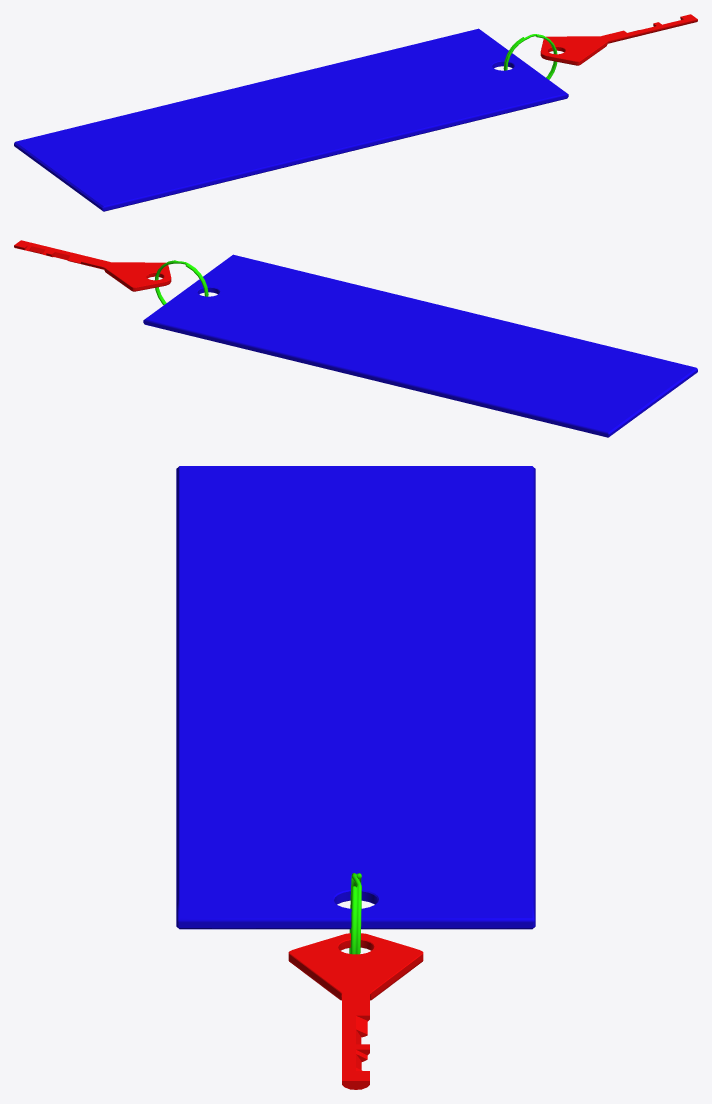
The model's file is Key.fbx.
The picture shows the model from 3 angles, top to bottom: view 1: azimuth 30°, elevation 25°; view 2: azimuth 150°, elevation 25°; view 3: azimuth 270°, elevation 25°; orthographic projection. The views are drawn at different scales.
Parts seen in each view (by area): view 1: polySurface3 (×3); view 2: polySurface3 (×3); view 3: polySurface3 (×2).
Boxes of the visible parts, x1,y1,x2,y2 form: polySurface3 (×3): (14,14,697,211); polySurface3 (×3): (14,240,697,437); polySurface3 (×2): (176,466,535,1089).
Bounding box in the file's own units: 13.9 × 1.15 × 3.4.
